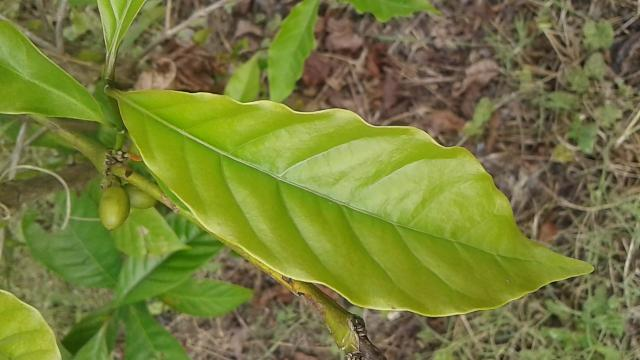healthy: (118, 90, 602, 318)
